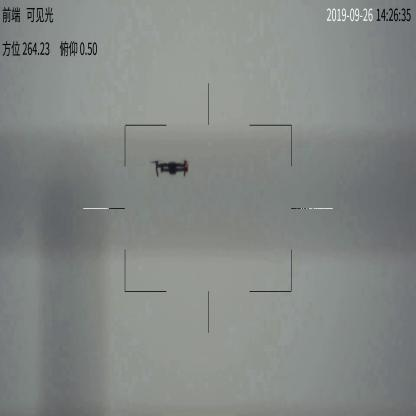uav: (146, 156, 192, 180)
